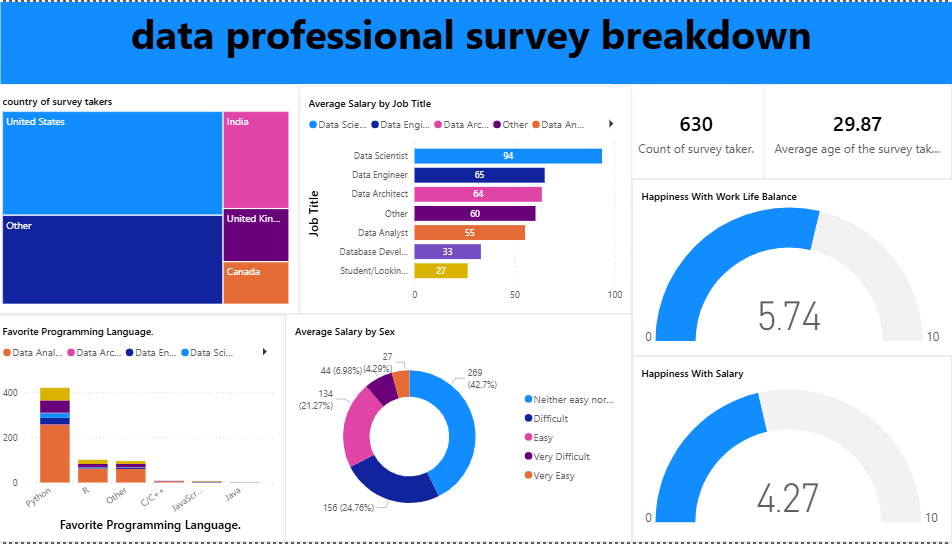

The page's visual inventory and layout, read from the dashboard file:
{"tool":"powerbi","page":{"name":"Page 1","canvas":[1280,720],"ordinal":0},"visuals":[{"type":"textbox","box":[10,0,1268,110],"z":0},{"type":"card","fields":{"Values":["CountNonNull(Data Professional Survey.Unique ID)"]},"box":[820,110,212,126],"z":1000},{"type":"card","fields":{"Values":["Avg(Data Professional Survey.Q10 - Current Age)"]},"box":[1032,110,246,126],"z":2000},{"type":"barChart","title":"Average Salary by Job Title ","fields":{"Category":["Data Professional Survey.Q1 - Which Title Best Fits your Current Role?.1"],"Y":["Avg(Data Professional Survey.Avarage Salary)"],"Series":["Data Professional Survey.Q1 - Which Title Best Fits your Current Role?.1"]},"box":[390,112,430,304],"z":3000},{"type":"columnChart","title":"Favorite Programming Language.","fields":{"Category":["Data Professional Survey.Q5 - Favorite Programming Language.1"],"Y":["CountNonNull(Data Professional Survey.Unique ID)"],"Series":["Data Professional Survey.Q1 - Which Title Best Fits your Current Role?.1"]},"box":[0,416,390,304],"z":4000},{"type":"treemap","title":"country of survey takers ","fields":{"Group":["Data Professional Survey.Q11 - Which Country do you live in?.1"],"Values":["CountNonNull(Data Professional Survey.Q11 - Which Country do you live in?.1)"]},"box":[0,110,390,306],"z":5000},{"type":"gauge","title":"Happiness  With Work Life Balance ","fields":{"Y":["Avg(Data Professional Survey.Q6 - How Happy are you in your Current Position with the following? (Work/Life Balance))"],"MinValue":["Min(Data Professional Survey.Q6 - How Happy are you in your Current Position with the following? (Work/Life Balance))1"],"MaxValue":["Max(Data Professional Survey.Q6 - How Happy are you in your Current Position with the following? (Work/Life Balance))2"]},"box":[820,236,460,236],"z":6000},{"type":"gauge","title":"Happiness With Salary ","fields":{"Y":["Avg(Data Professional Survey.Q6 - How Happy are you in your Current Position with the following? (Salary))"],"MinValue":["Min(Data Professional Survey.Q6 - How Happy are you in your Current Position with the following? (Salary))"],"MaxValue":["Max(Data Professional Survey.Q6 - How Happy are you in your Current Position with the following? (Salary))"]},"box":[820,472,458,248],"z":7000},{"type":"donutChart","title":"Average Salary by Sex","fields":{"Category":["Data Professional Survey.Q7 - How difficult was it for you to break into Data?"],"Y":["CountNonNull(Data Professional Survey.Q7 - How difficult was it for you to break into Data?)"]},"box":[390,416,430,304],"z":7001}]}

Visuals, with their boxes in screenshot pixels (x1, y1, x2, y2), scaled from the page's 1280x720 canvas onto the 952x544 screenshot:
textbox: {"left": 7, "top": 0, "right": 951, "bottom": 83}
card - CountNonNull(Data Professional Survey.Unique ID): {"left": 610, "top": 83, "right": 768, "bottom": 178}
card - Avg(Data Professional Survey.Q10 - Current Age): {"left": 768, "top": 83, "right": 951, "bottom": 178}
"Average Salary by Job Title " barChart: {"left": 290, "top": 85, "right": 610, "bottom": 314}
"Favorite Programming Language." columnChart: {"left": 0, "top": 314, "right": 290, "bottom": 543}
"country of survey takers " treemap: {"left": 0, "top": 83, "right": 290, "bottom": 314}
"Happiness  With Work Life Balance " gauge: {"left": 610, "top": 178, "right": 951, "bottom": 357}
"Happiness With Salary " gauge: {"left": 610, "top": 357, "right": 951, "bottom": 543}
"Average Salary by Sex" donutChart: {"left": 290, "top": 314, "right": 610, "bottom": 543}
